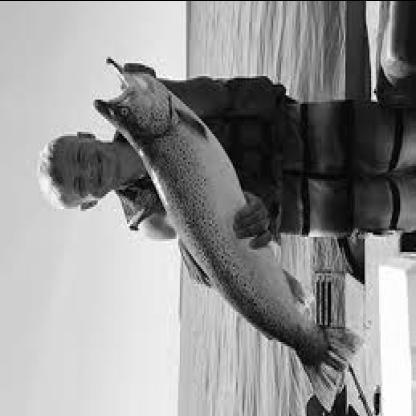fish: (90, 54, 354, 408)
